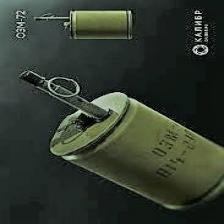OZM-72: (43, 90, 224, 210)
